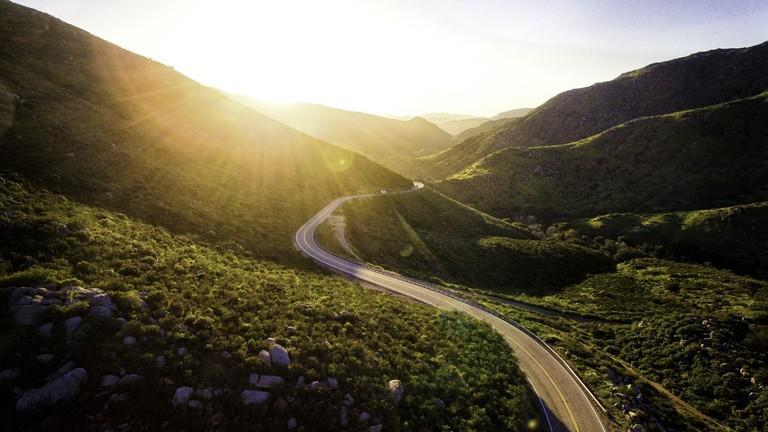light: (107, 0, 404, 166)
